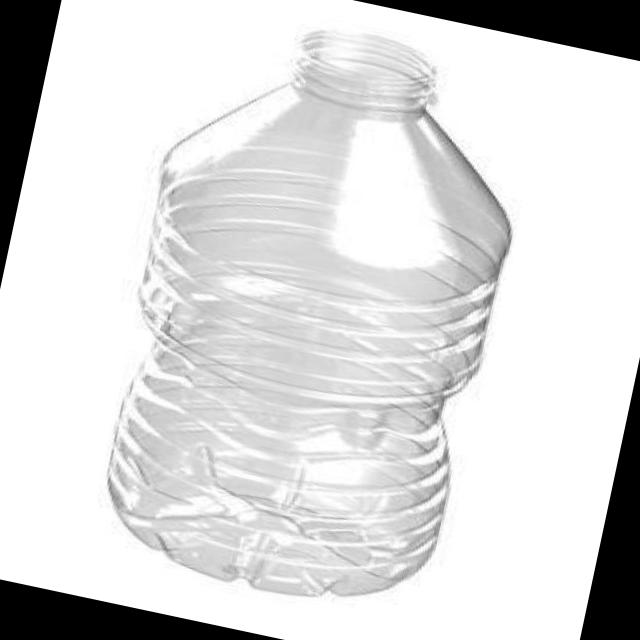Galon: (75, 0, 549, 625)
